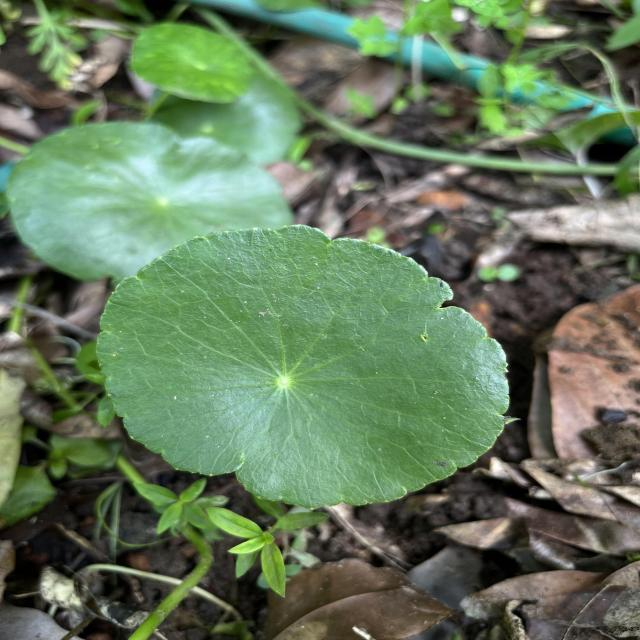Bacopa monnieri: (93, 222, 514, 514)
